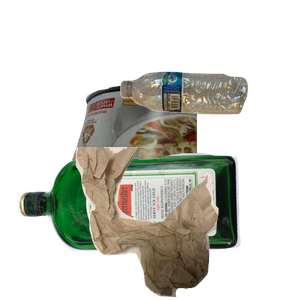glass: (14, 150, 247, 300)
metal: (60, 82, 300, 262)
plastic: (118, 69, 300, 176)
trash: (73, 147, 300, 300)
